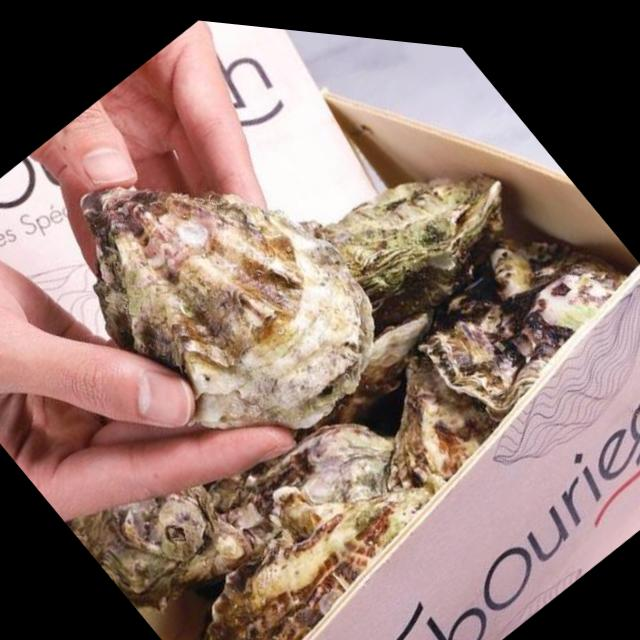Oyster-Closed: (327, 176, 506, 335), (299, 313, 436, 441)
Oyster-Indeterminate: (80, 186, 375, 410), (204, 482, 437, 640), (65, 484, 254, 602), (425, 288, 572, 420), (397, 349, 504, 493), (269, 423, 397, 542), (488, 242, 613, 310), (533, 266, 629, 347)
